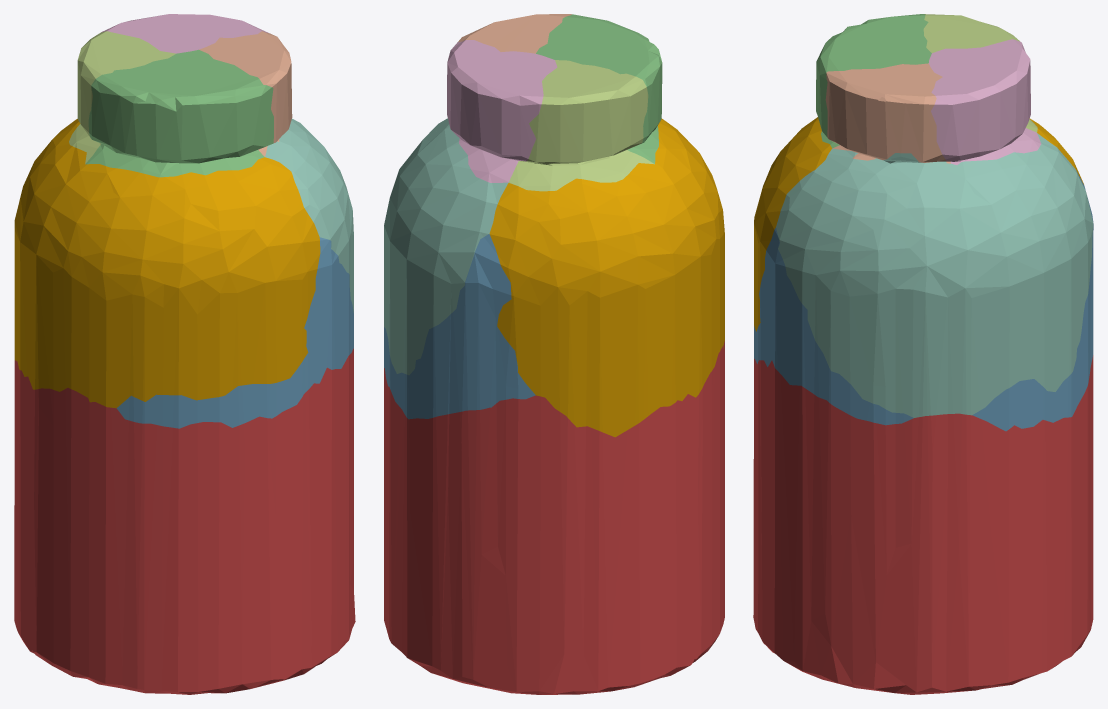
The model's file is fractured_0_8pcs.glb.
The picture shows the model from 3 angles, left to right: view 1: azimuth 30°, elevation 25°; view 2: azimuth 150°, elevation 25°; view 3: azimuth 270°, elevation 25°; orthographic projection.
Visible parts, largest first — view 1: piece_1.obj, piece_0.obj, piece_3.obj, piece_2.obj, piece_4.obj, piece_5.obj, piece_7.obj, piece_6.obj; view 2: piece_1.obj, piece_0.obj, piece_4.obj, piece_2.obj, piece_5.obj, piece_6.obj, piece_3.obj, piece_7.obj; view 3: piece_1.obj, piece_4.obj, piece_2.obj, piece_6.obj, piece_7.obj, piece_3.obj, piece_0.obj, piece_5.obj.
Part boxes in pixels (x1,y1,x2,y2): piece_1.obj: (14, 348, 355, 694); piece_0.obj: (14, 119, 320, 408); piece_3.obj: (85, 49, 273, 177); piece_2.obj: (116, 237, 353, 428); piece_4.obj: (265, 118, 353, 312); piece_5.obj: (69, 31, 175, 163); piece_7.obj: (199, 31, 292, 156); piece_6.obj: (101, 14, 269, 53); piece_1.obj: (384, 341, 724, 694); piece_0.obj: (489, 118, 724, 437); piece_4.obj: (384, 118, 508, 375); piece_2.obj: (384, 234, 535, 419); piece_5.obj: (508, 60, 654, 191); piece_6.obj: (447, 40, 557, 182); piece_3.obj: (536, 14, 662, 163); piece_7.obj: (458, 14, 571, 53); piece_1.obj: (753, 355, 1093, 694); piece_4.obj: (776, 133, 1093, 417); piece_2.obj: (754, 170, 1093, 431); piece_6.obj: (928, 39, 1041, 164); piece_7.obj: (825, 63, 950, 163); piece_3.obj: (816, 14, 931, 148); piece_0.obj: (754, 117, 1083, 331); piece_5.obj: (923, 14, 1037, 132).
Size of the model in its own units: 0.5393 by 1 by 0.5392.
